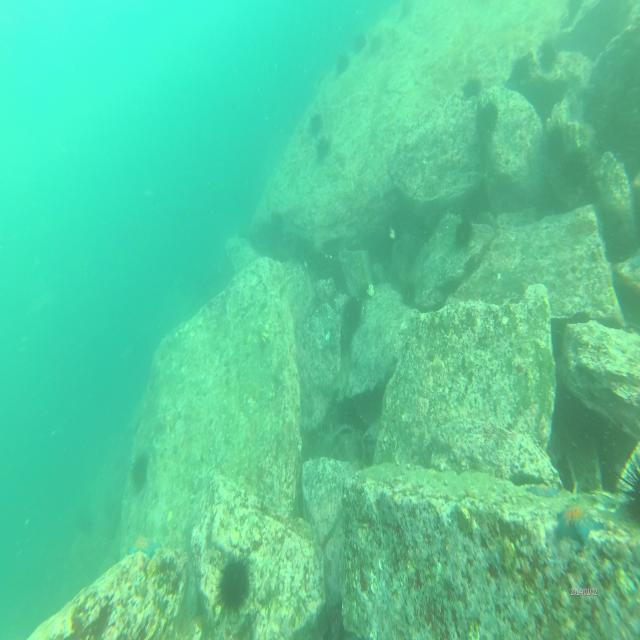echinus: (218, 548, 252, 616), (617, 448, 640, 532), (557, 148, 592, 192), (476, 98, 499, 134), (132, 455, 150, 489), (536, 40, 557, 67), (452, 220, 472, 248), (460, 78, 480, 99), (316, 136, 332, 161), (335, 54, 349, 78), (306, 112, 321, 133), (352, 31, 363, 49)
starfish: (558, 503, 602, 548), (128, 532, 158, 560), (526, 476, 557, 501)
